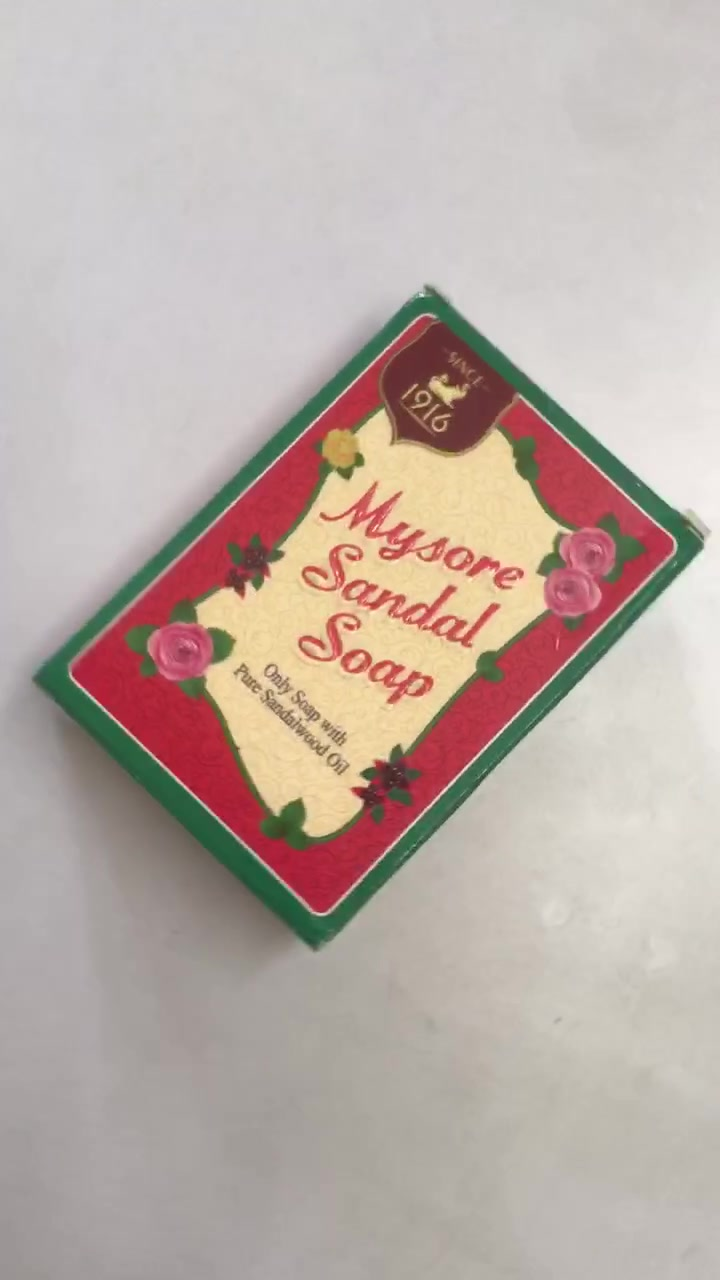mysore sandal soap: (33, 300, 710, 964)
